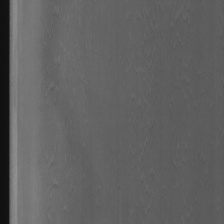silk_spot: (38, 12, 164, 189)
